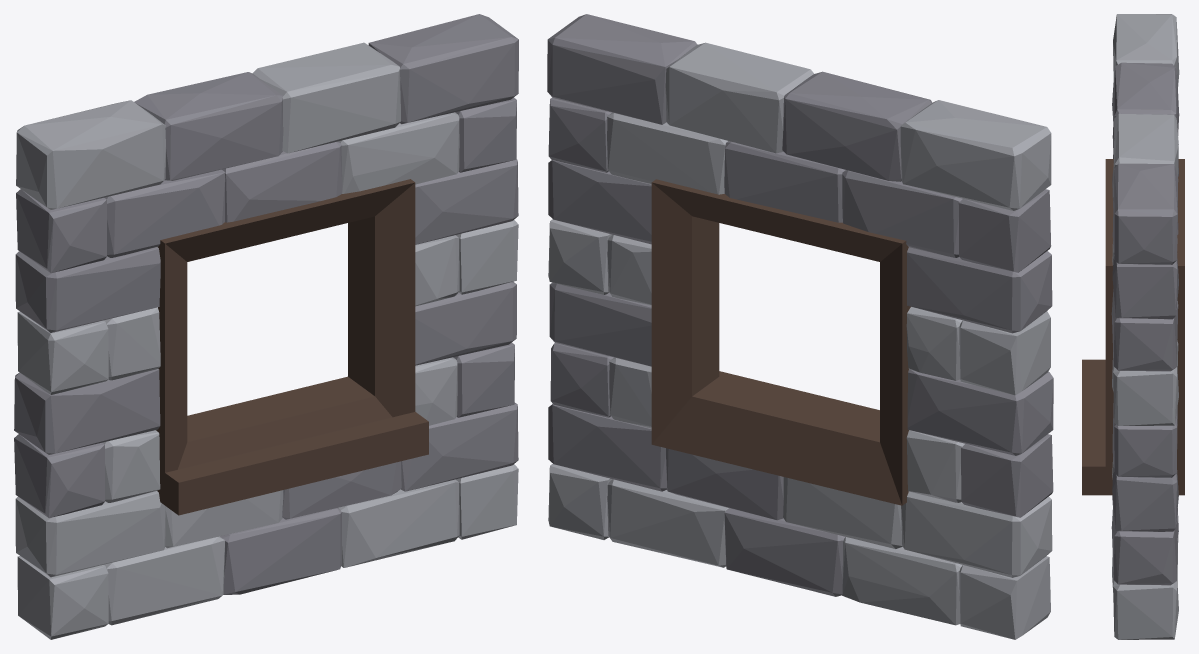
Rendered from fantasy_wall_stone_4_window.fbx.
3 renders of one model, left to right at view 1: azimuth 30°, elevation 25°; view 2: azimuth 150°, elevation 25°; view 3: azimuth 270°, elevation 25°, orthographic. The views are drawn at different scales.
Visible parts, largest first — view 1: Cube.260; view 2: Cube.260; view 3: Cube.260.
Boxes of the visible parts, box(x1,y1,x2,y2) form: Cube.260: box(14, 14, 518, 639); Cube.260: box(547, 14, 1053, 639); Cube.260: box(1082, 14, 1184, 639).
Size of the model in its own units: 306 by 302 by 65.
